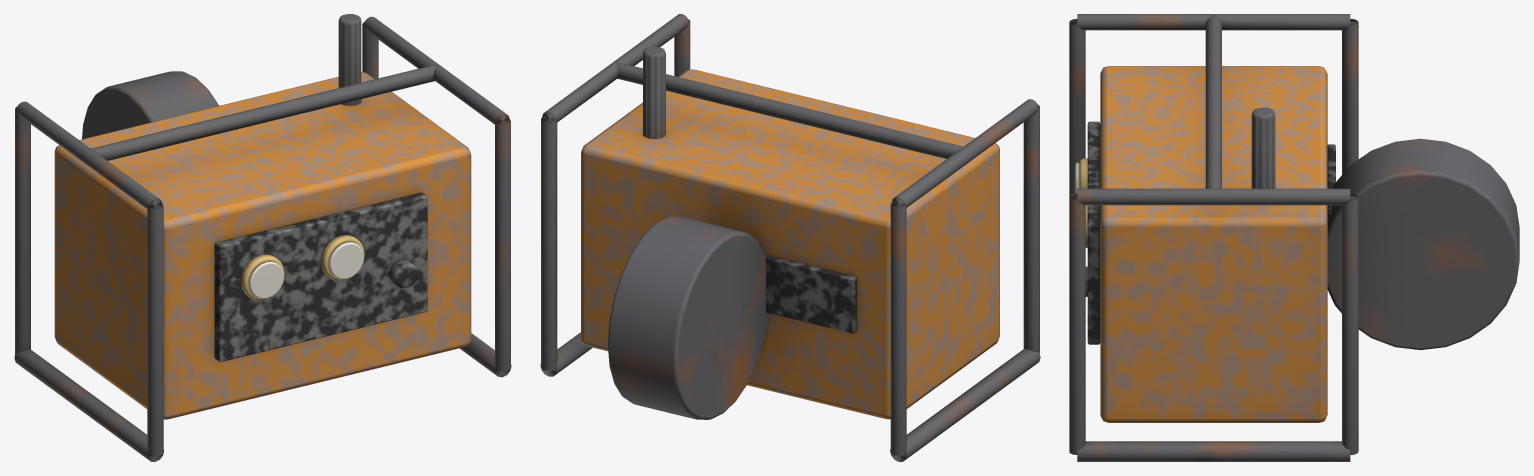
File: welder_machine.glb
3 renders of one model, left to right at view 1: azimuth 30°, elevation 25°; view 2: azimuth 150°, elevation 25°; view 3: azimuth 270°, elevation 25°, orthographic. The views are drawn at different scales.
Parts seen in each view (by area): view 1: WelderMachine; view 2: WelderMachine; view 3: WelderMachine.
Part boxes in pixels (box(x1,y1,x2,y2)): WelderMachine: box(14, 14, 511, 461); WelderMachine: box(540, 14, 1040, 461); WelderMachine: box(1069, 14, 1519, 461).
Bounding box in the file's own units: 1.05 × 0.85 × 1.09.
Materials: 6 (6 with a texture image).
